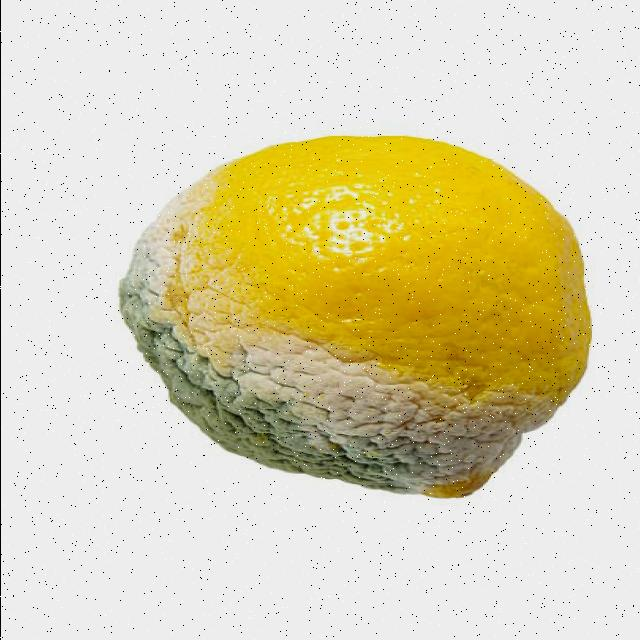Rotten: (116, 135, 590, 504)
